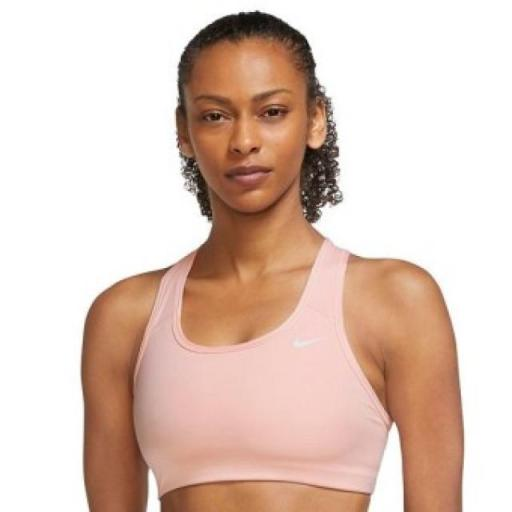Nike: (289, 331, 330, 351)
